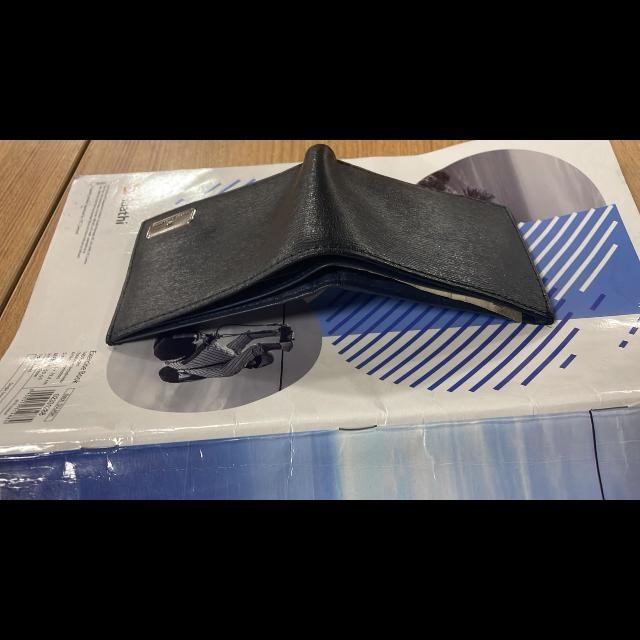wallet: (96, 143, 564, 365)
